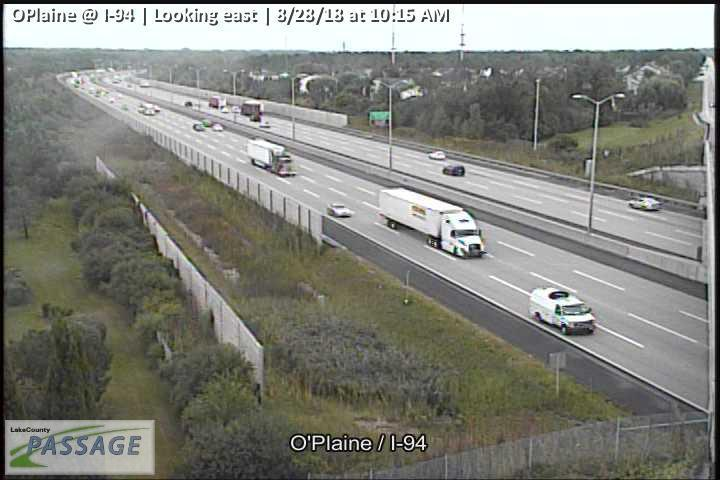SUV: (530, 286, 595, 336), (443, 163, 465, 176), (430, 150, 445, 160)
Sedan: (628, 198, 662, 210), (327, 203, 351, 219), (193, 124, 203, 133), (213, 123, 223, 131), (203, 120, 211, 126)
Truck: (379, 188, 486, 259), (246, 137, 297, 177), (242, 101, 263, 115), (208, 95, 225, 107)
